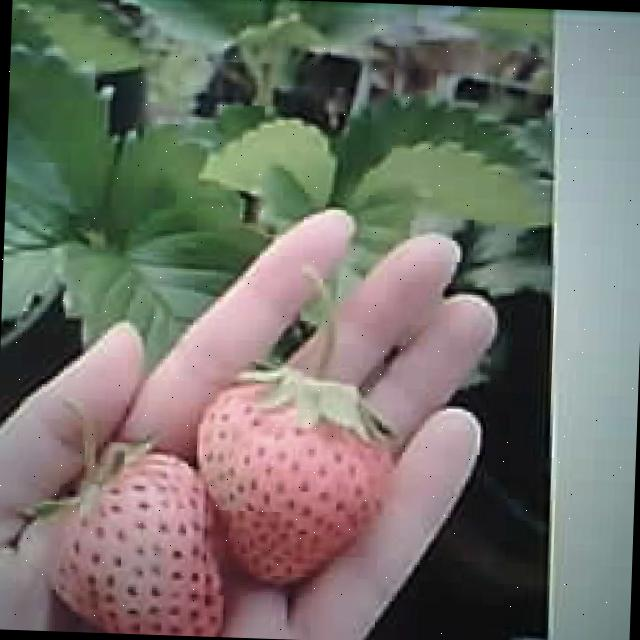strawberry: (192, 387, 383, 586), (51, 448, 224, 636)
